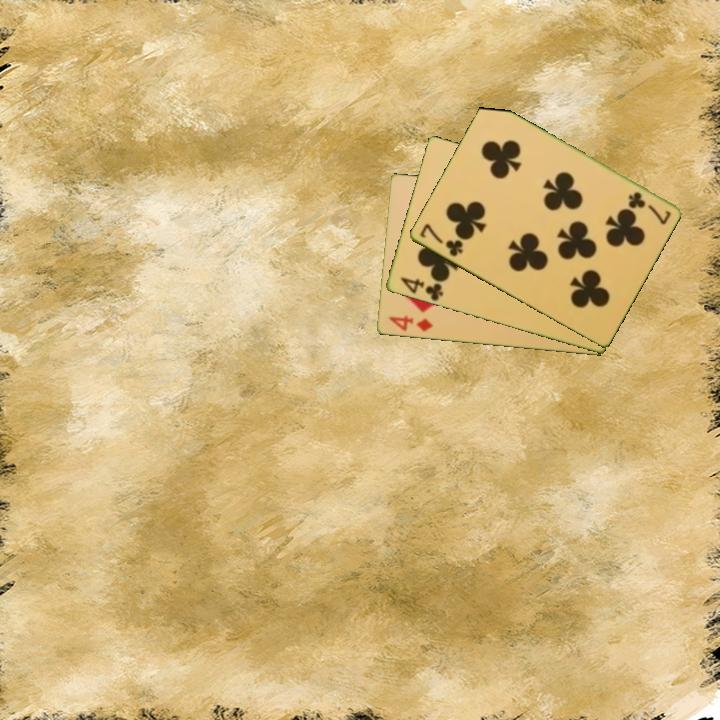4c: (397, 274, 446, 304)
4d: (385, 312, 435, 335)
7c: (416, 220, 466, 260), (624, 188, 673, 227)
